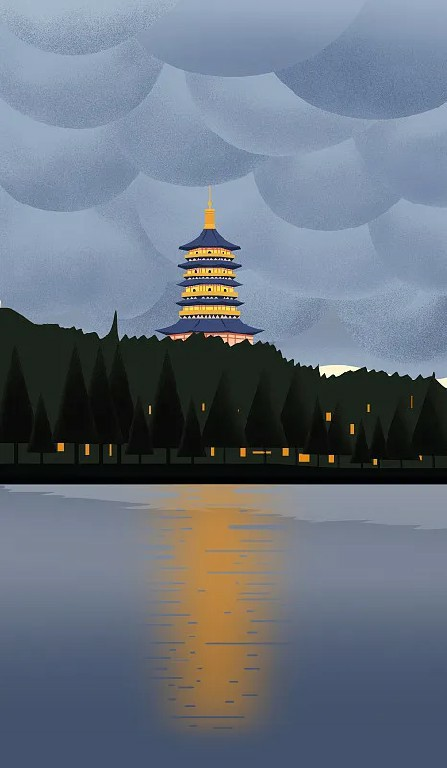Leifeng: (155, 182, 264, 351)
